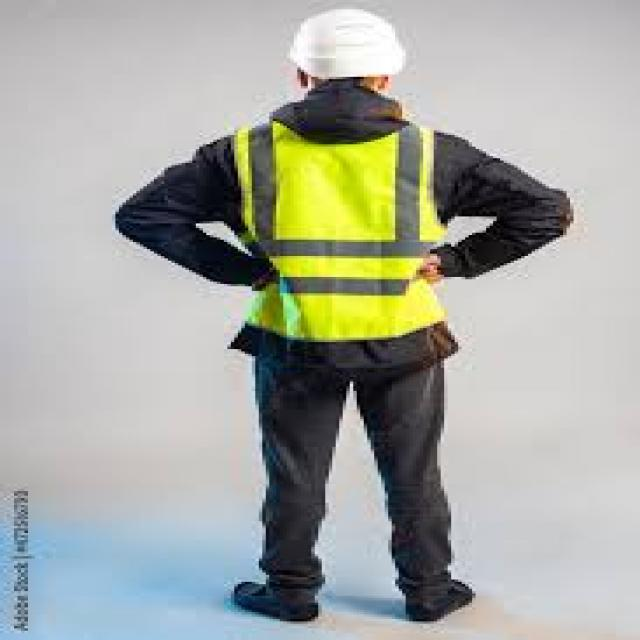reflective_jacket: (191, 111, 479, 356)
safety_helmet: (269, 4, 423, 93)
